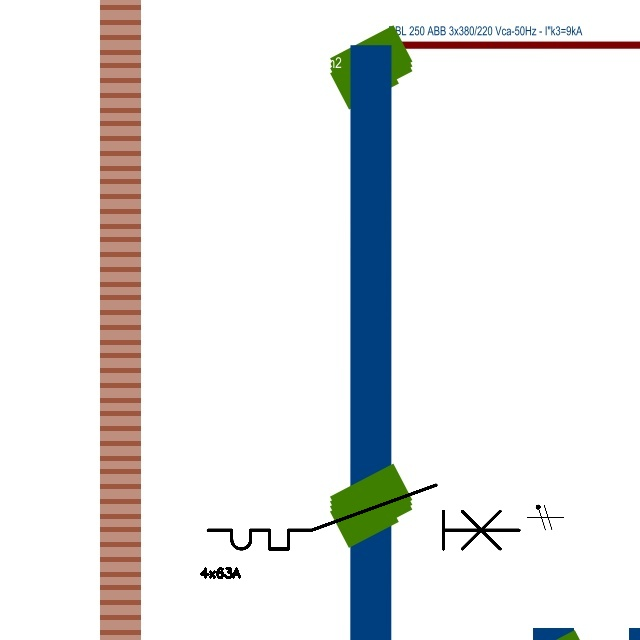interruptor_termomagnetico: (200, 477, 527, 557)
